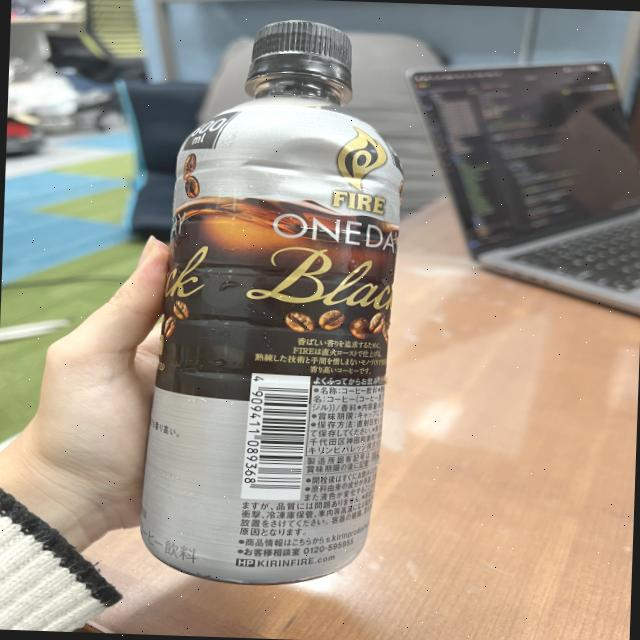coffee-black: (113, 6, 406, 586)
